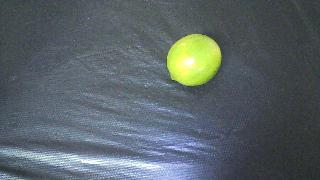LOCAL: (167, 34, 221, 86)
